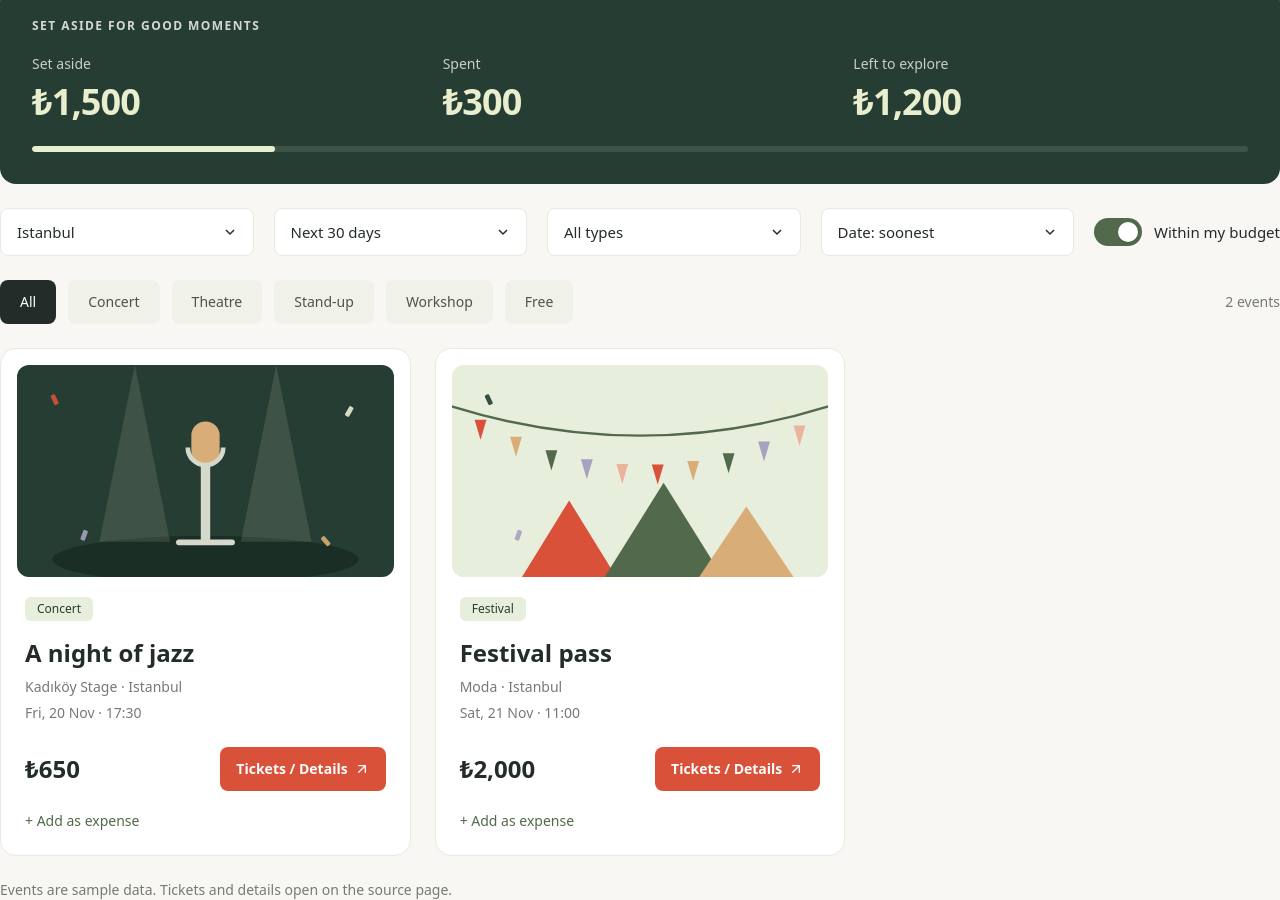
Test: ActivitiesPage › pre-fills an expense from an event
(page scrolled)
Click the button "+ Add as expense" below "₺650" at x=82, y=821, box [25, 811, 139, 831]
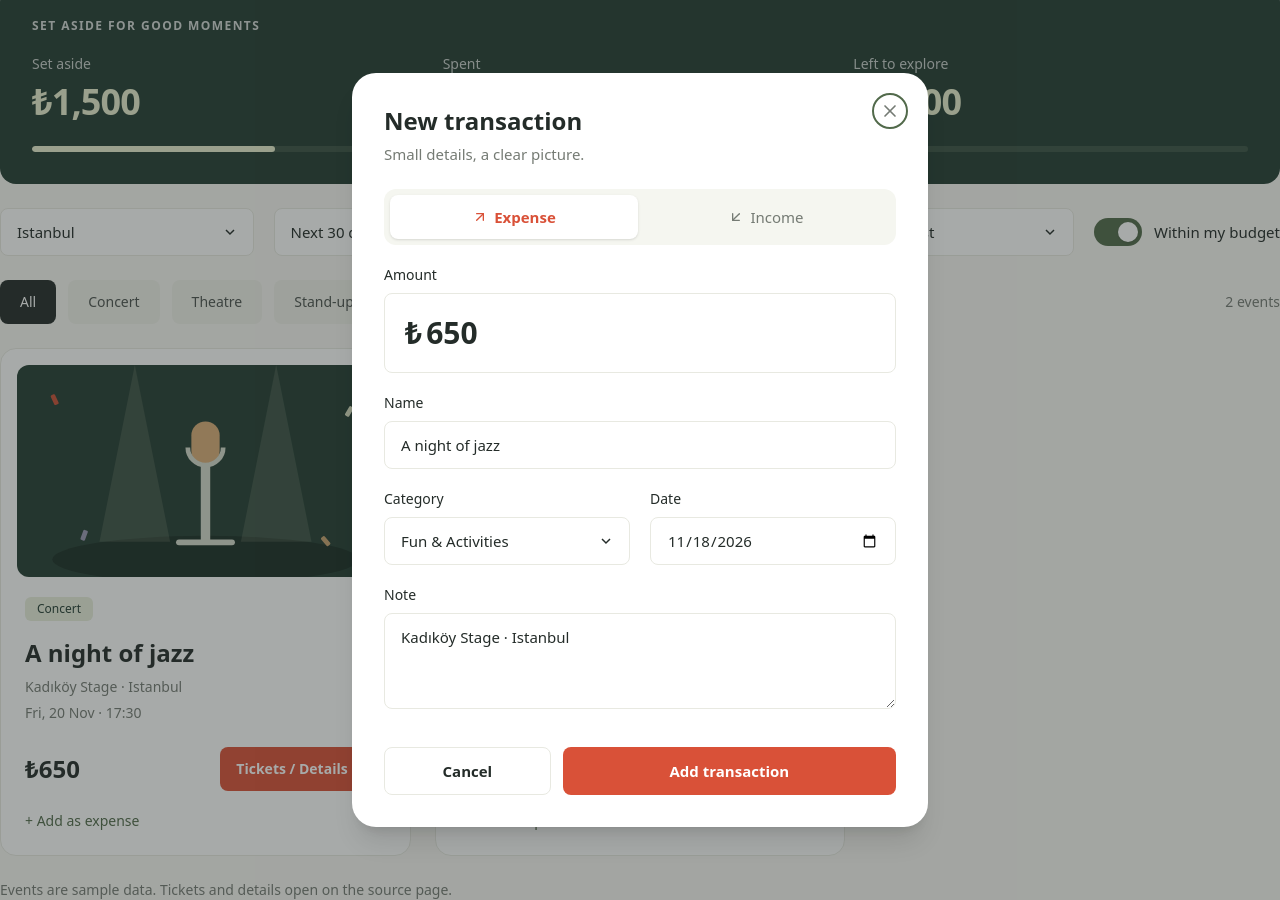
Result: the number field labelled "Amount" holds "650" at [422, 315, 875, 351]
Result: the field labelled "Name" holds "A night of jazz" at [384, 421, 896, 469]
Result: the dropdown labelled "Category" shows "Fun & Activities" at [384, 517, 630, 565]
